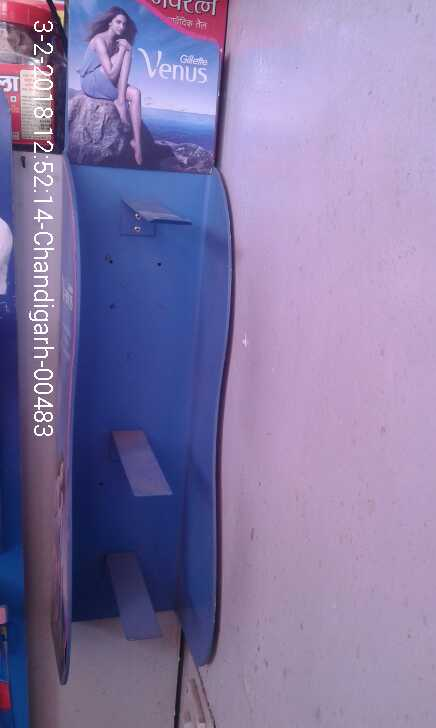reject: (140, 230, 269, 481)
